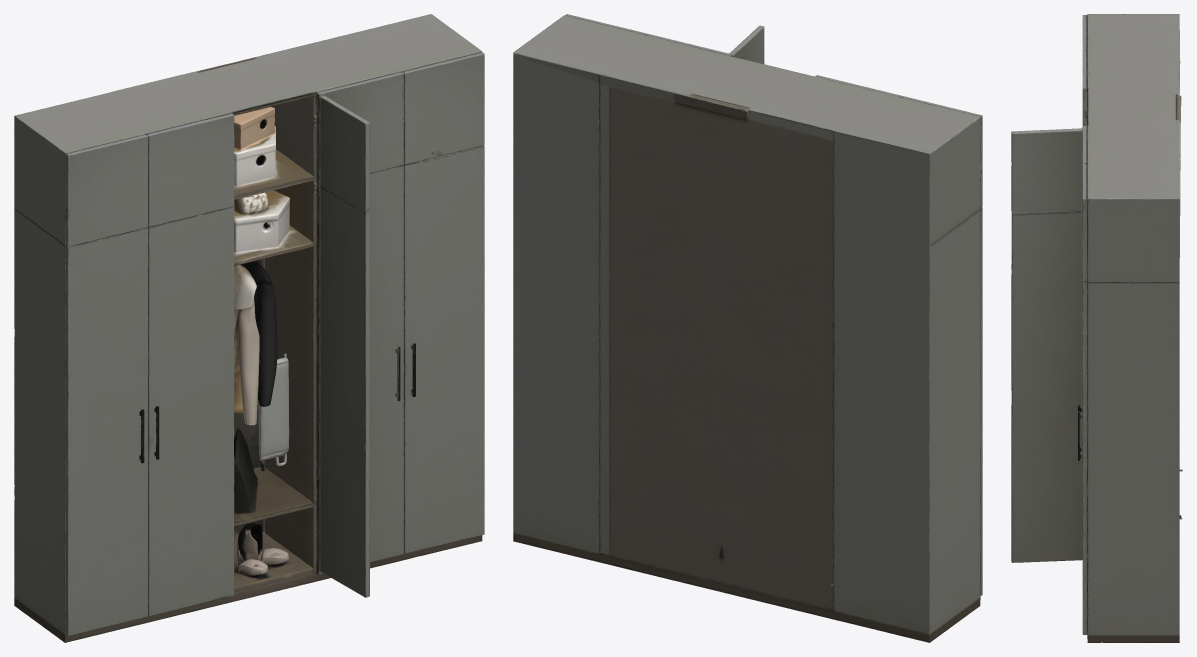
Rendered from No Name-10.glb.
3 views of the same model, side by side, from view 1: azimuth 30°, elevation 25°; view 2: azimuth 150°, elevation 25°; view 3: azimuth 270°, elevation 25° (orthographic). The views are drawn at different scales.
Parts seen in each view (by area): view 1: tripo_node_af231644-4b2f-4d19-a431-5bb525bcea1b; view 2: tripo_node_af231644-4b2f-4d19-a431-5bb525bcea1b; view 3: tripo_node_af231644-4b2f-4d19-a431-5bb525bcea1b.
Part boxes in pixels (x1,y1,x2,y2): tripo_node_af231644-4b2f-4d19-a431-5bb525bcea1b: [14, 14, 484, 642]; tripo_node_af231644-4b2f-4d19-a431-5bb525bcea1b: [513, 14, 982, 642]; tripo_node_af231644-4b2f-4d19-a431-5bb525bcea1b: [1011, 14, 1182, 642].
Bounding box in the file's own units: 0.8735 × 0.9805 × 0.3426.
1 material, 1 textured.
